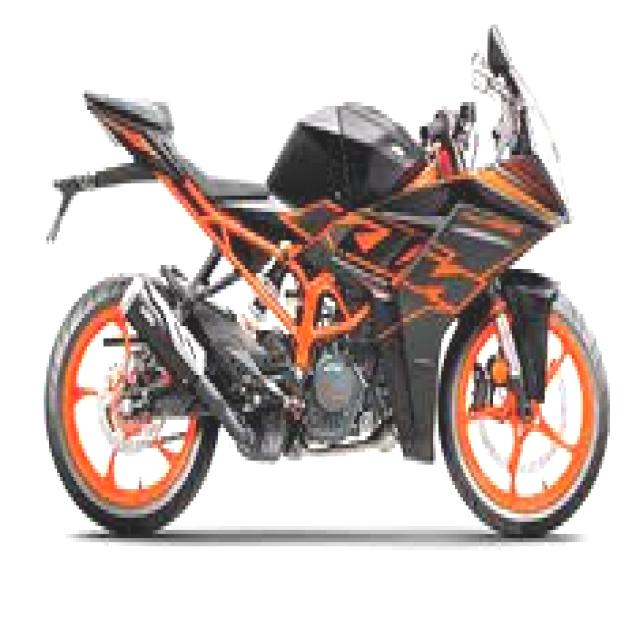MOTORCYCLE: (33, 44, 606, 536)
